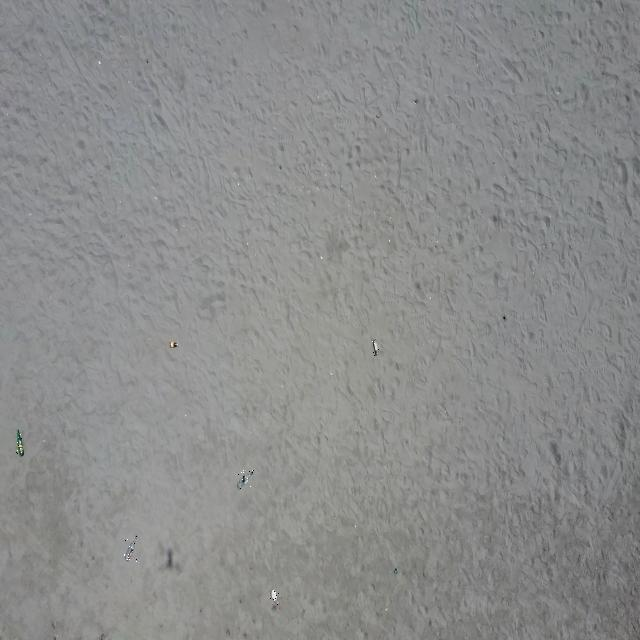glass: (124, 536, 138, 562), (237, 470, 254, 490), (270, 588, 282, 608), (16, 431, 23, 456), (372, 339, 379, 356), (170, 342, 179, 348), (396, 568, 400, 574)
